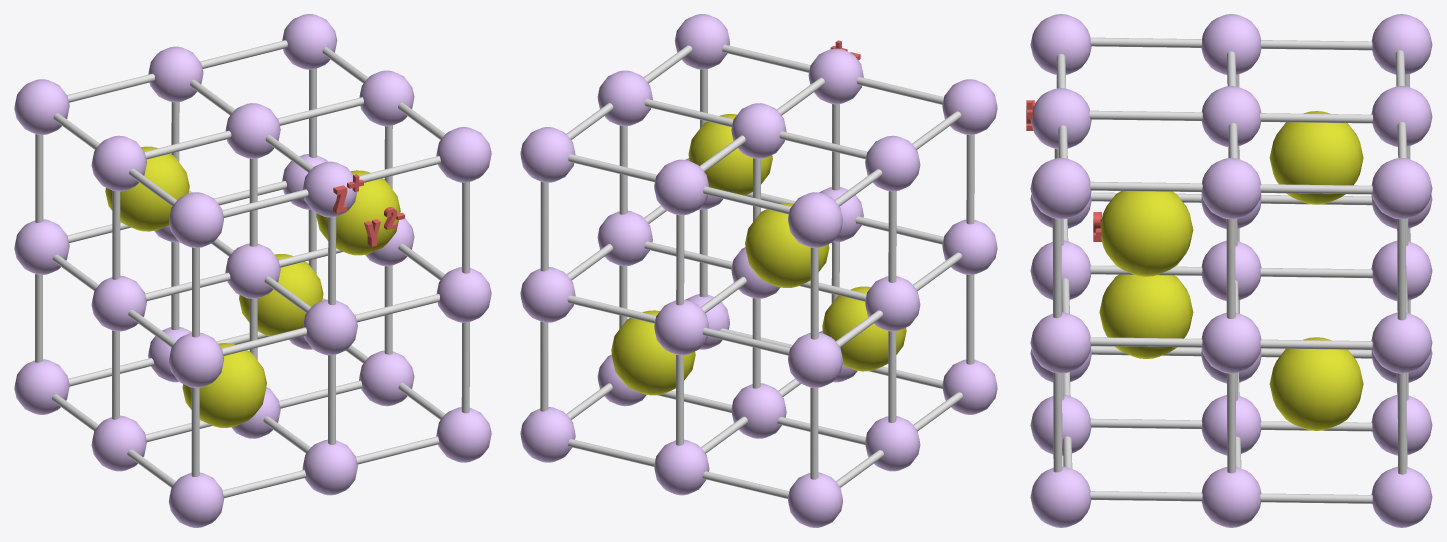
File: asset.glb
3 views of the same model, side by side, from view 1: azimuth 30°, elevation 25°; view 2: azimuth 150°, elevation 25°; view 3: azimuth 270°, elevation 25° (orthographic). The views are drawn at different scales.
Parts seen in each view (by area): view 1: 3DGeom-7, 3DGeom-6, 3DGeom-8, 3DGeom-5; view 2: 3DGeom-7, 3DGeom-6, 3DGeom-8; view 3: 3DGeom-7, 3DGeom-6, 3DGeom-8, 3DGeom-5.
Boxes of the visible parts, x1,y1,x2,y2 form: 3DGeom-7: (14, 14, 491, 527); 3DGeom-6: (35, 40, 469, 498); 3DGeom-8: (105, 146, 400, 427); 3DGeom-5: (333, 174, 404, 246); 3DGeom-7: (520, 14, 997, 527); 3DGeom-6: (540, 44, 974, 498); 3DGeom-8: (611, 114, 906, 395); 3DGeom-7: (1030, 14, 1432, 527); 3DGeom-6: (1052, 37, 1410, 503); 3DGeom-8: (1099, 111, 1363, 430); 3DGeom-5: (1026, 100, 1101, 241).
Bounding box in the file's own units: 0.3425 × 0.3425 × 0.3459.
